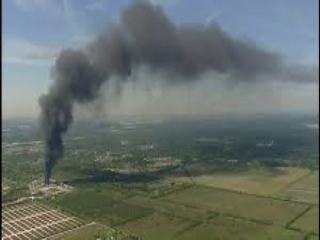smoke: (24, 23, 145, 192)
